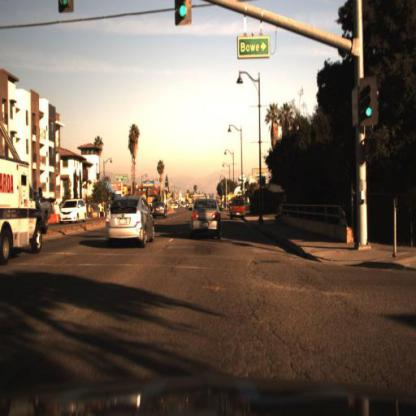car: (2, 146, 50, 277), (109, 192, 153, 252), (187, 190, 224, 244), (59, 200, 88, 226), (149, 198, 172, 227), (230, 194, 249, 222)
trafficLight-Green: (360, 96, 378, 136), (360, 80, 376, 123)
truck: (2, 156, 49, 269)
